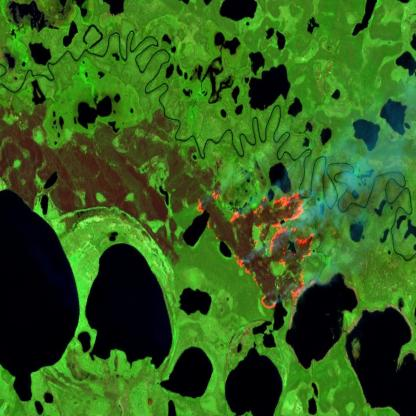fire: (194, 181, 318, 314)
